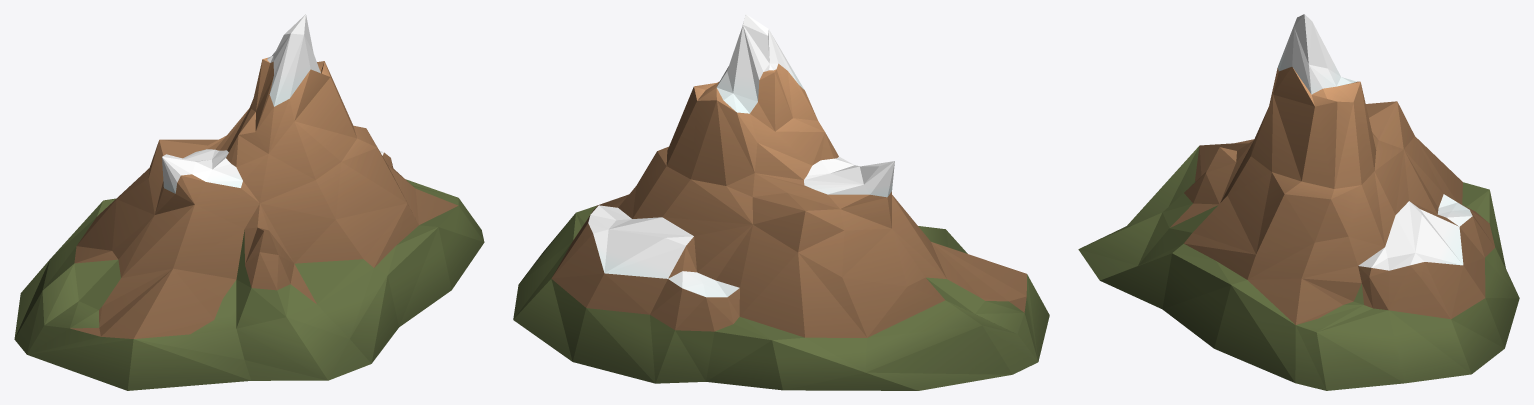
The model's file is Mountain-02.FBX.
3 views of the same model, side by side, from view 1: azimuth 30°, elevation 25°; view 2: azimuth 150°, elevation 25°; view 3: azimuth 270°, elevation 25° (orthographic). The views are drawn at different scales.
Parts seen in each view (by area): view 1: Mountain-02; view 2: Mountain-02; view 3: Mountain-02.
Part boxes in pixels (<box>): Mountain-02: <box>14,14,484,390</box>; Mountain-02: <box>513,14,1049,390</box>; Mountain-02: <box>1078,14,1519,390</box>.
Bounding box in the file's own units: 20341 × 11829 × 15890.
1 material, 1 textured.
